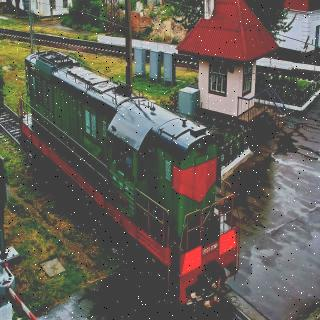poezd: (21, 61, 221, 299)
